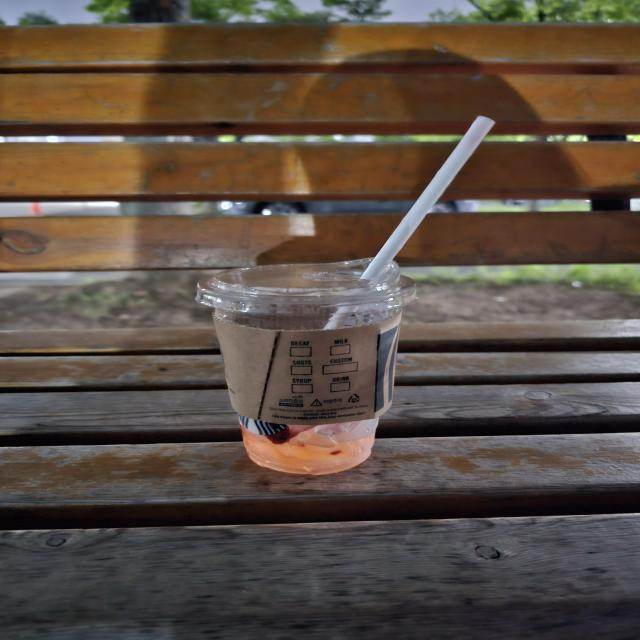cup: (188, 253, 422, 481)
